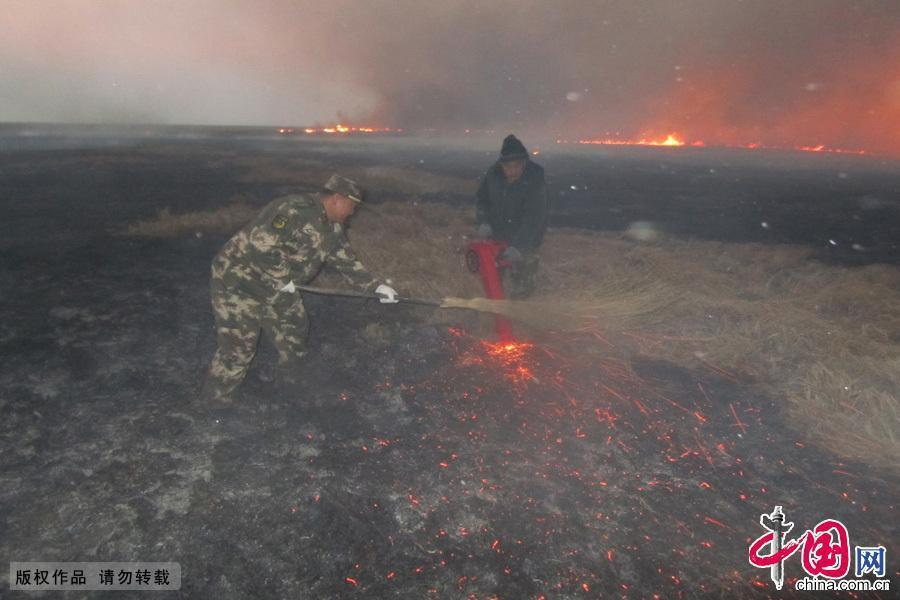fire: (576, 120, 702, 144), (468, 319, 529, 362), (297, 119, 402, 141), (800, 135, 830, 152)
